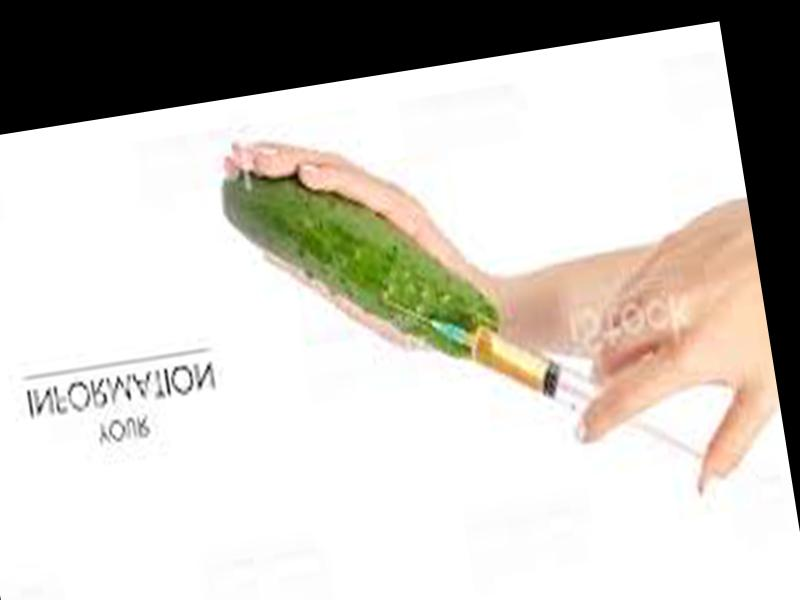Cucumber: (221, 139, 503, 397)
